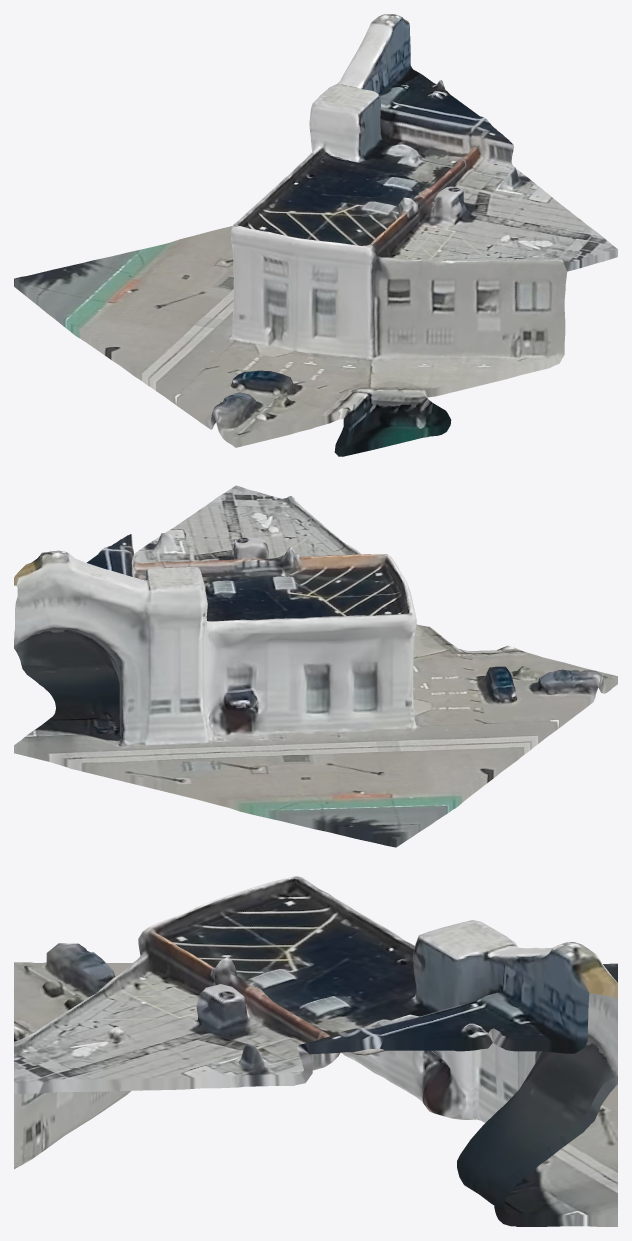
Rendered from z20-167778-405204-h0-yup-uvflip-v3-world.glb.
3 renders of one model, top to bottom at view 1: azimuth 30°, elevation 25°; view 2: azimuth 150°, elevation 25°; view 3: azimuth 270°, elevation 25°, orthographic. The views are drawn at different scales.
Size of the model in its own units: 30.16 by 17.44 by 30.32.
Materials: 1 (1 with a texture image).
